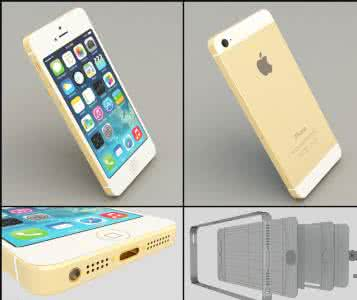phone: (22, 38, 166, 181), (212, 43, 347, 178)
